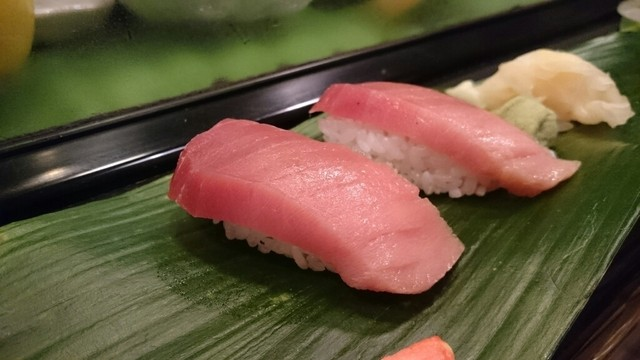medium_fatty_tuna: (163, 136, 456, 297), (333, 87, 533, 200)
